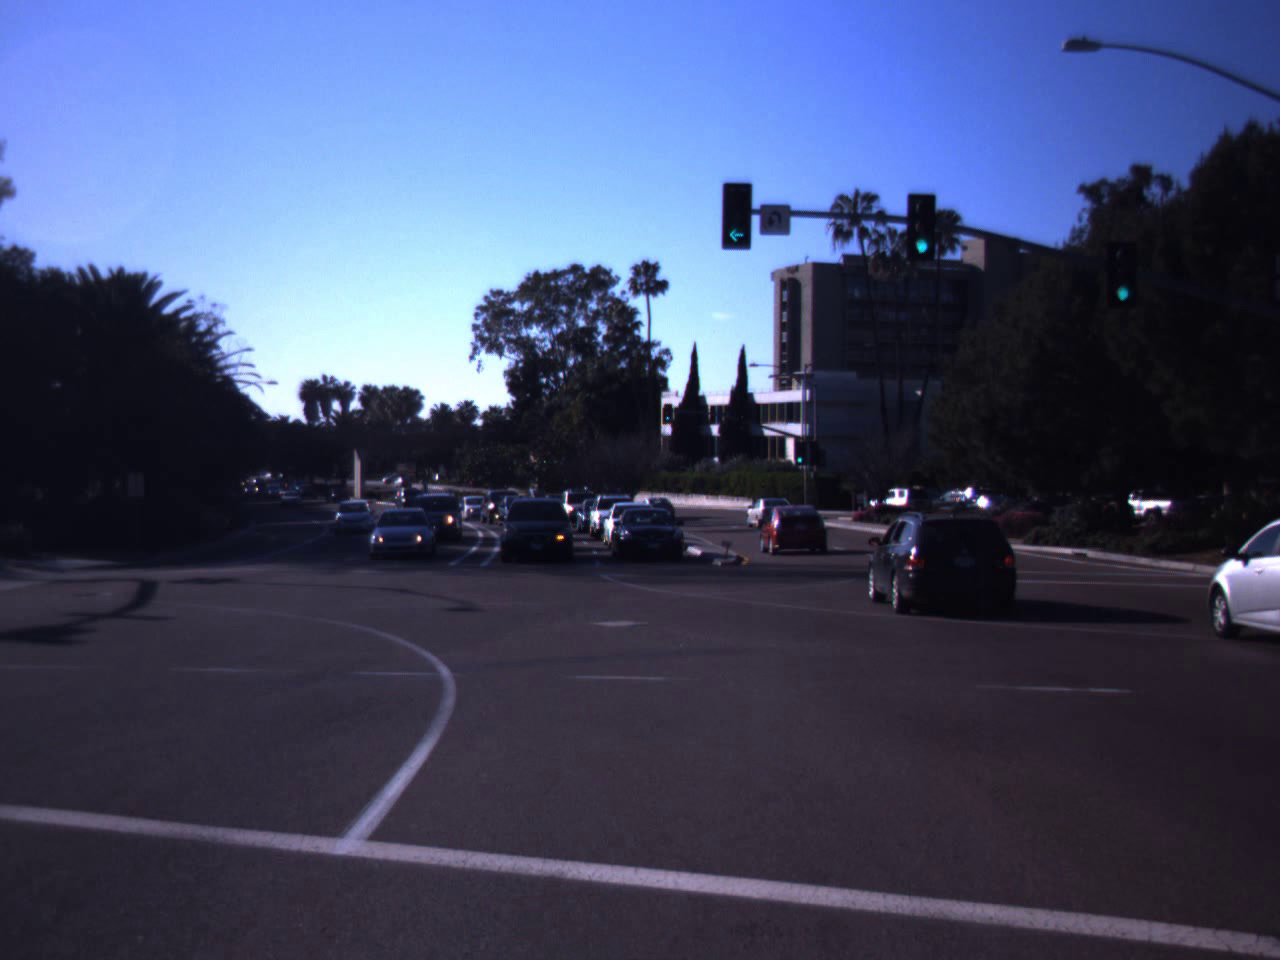go: (709, 182, 760, 247), (910, 207, 934, 257), (1113, 258, 1134, 303)
